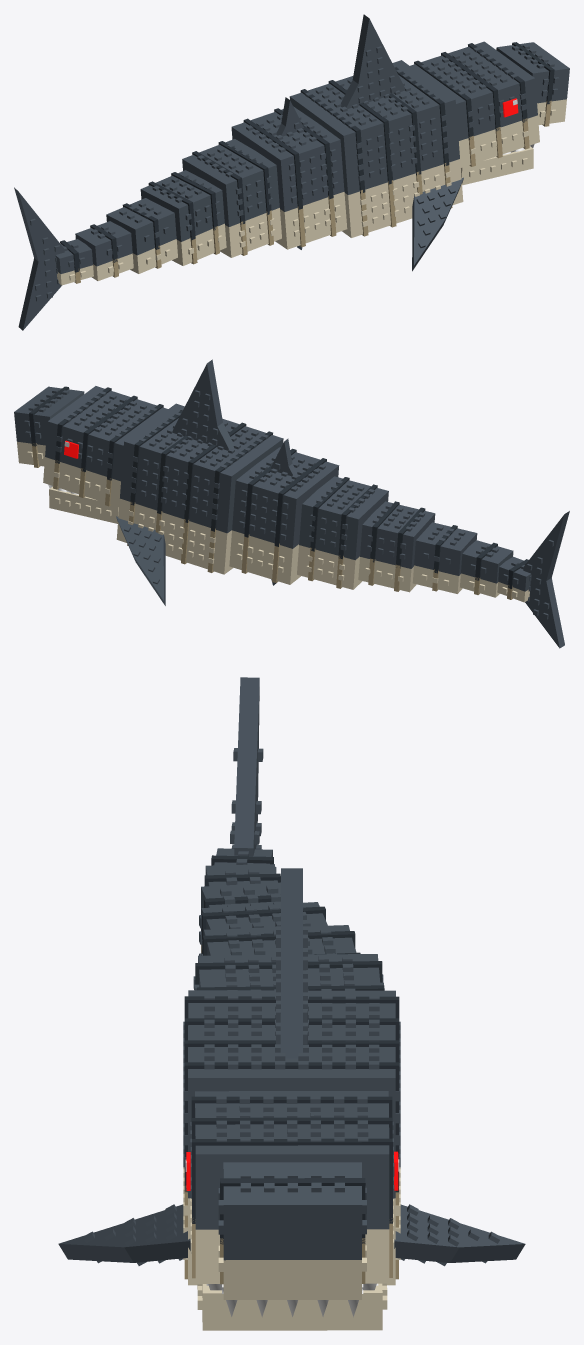
File: megalodon.glb
3 renders of one model, top to bottom at view 1: azimuth 30°, elevation 25°; view 2: azimuth 150°, elevation 25°; view 3: azimuth 270°, elevation 25°, orthographic. The views are drawn at different scales.
Visible parts, largest first — view 1: torso_top, skull_top, tail1_top, tail2_top, torso_belly, torso_top_studs, caudal_fin, dorsal_fin, tail3_top, tail4_top, tail1_belly, pectoral_fin_L (+33 smaller); view 2: torso_top, skull_top, tail1_top, tail2_top, torso_belly, torso_top_studs, caudal_fin, tail3_top, dorsal_fin, tail1_belly, tail4_top, pectoral_fin_R (+34 smaller); view 3: snout_top, torso_top, skull_top, torso_top_studs, jaw_block, snout_belly, dorsal_fin, pectoral_fin_L, pectoral_fin_R, caudal_fin, skull_top_studs, tail1_top (+21 smaller).
Part boxes in pixels (left/top/right/bottom): torso_top: left=289, top=60, right=459, bottom=194; skull_top: left=410, top=41, right=537, bottom=140; tail1_top: left=231, top=106, right=344, bottom=211; tail2_top: left=182, top=139, right=279, bottom=226; torso_belly: left=342, top=159, right=463, bottom=237; torso_top_studs: left=305, top=64, right=449, bottom=181; caudal_fin: left=14, top=187, right=64, bottom=330; dorsal_fin: left=341, top=14, right=404, bottom=108; tail3_top: left=140, top=170, right=224, bottom=241; tail4_top: left=106, top=198, right=176, bottom=255; tail1_belly: left=275, top=192, right=347, bottom=249; pectoral_fin_L: left=412, top=177, right=463, bottom=271; torso_top: left=120, top=403, right=283, bottom=533; skull_top: left=45, top=386, right=167, bottom=481; tail1_top: left=232, top=447, right=339, bottom=548; tail2_top: left=299, top=476, right=388, bottom=560; torso_belly: left=116, top=498, right=233, bottom=574; torso_top_studs: left=130, top=408, right=268, bottom=519; caudal_fin: left=523, top=511, right=569, bottom=648; tail3_top: left=360, top=501, right=435, bottom=568; dorsal_fin: left=173, top=359, right=234, bottom=450; tail1_belly: left=229, top=530, right=300, bottom=584; tail4_top: left=414, top=522, right=477, bottom=575; pectoral_fin_R: left=116, top=516, right=165, bottom=605; snout_top: left=223, top=1162, right=362, bottom=1260; torso_top: left=188, top=990, right=395, bottom=1198; skull_top: left=195, top=1091, right=389, bottom=1229; torso_top_studs: left=183, top=994, right=400, bottom=1167; jaw_block: left=202, top=1283, right=382, bottom=1330; snout_belly: left=223, top=1260, right=361, bottom=1299; dorsal_fin: left=280, top=868, right=302, bottom=1058; pectoral_fin_L: left=58, top=1204, right=190, bottom=1262; pectoral_fin_R: left=394, top=1204, right=525, bottom=1262; caudal_fin: left=234, top=677, right=259, bottom=855; skull_top_studs: left=190, top=1095, right=394, bottom=1198; tail1_top: left=198, top=954, right=380, bottom=987.
Bounding box in the file's own units: 8.77 × 3.34 × 3.38.
